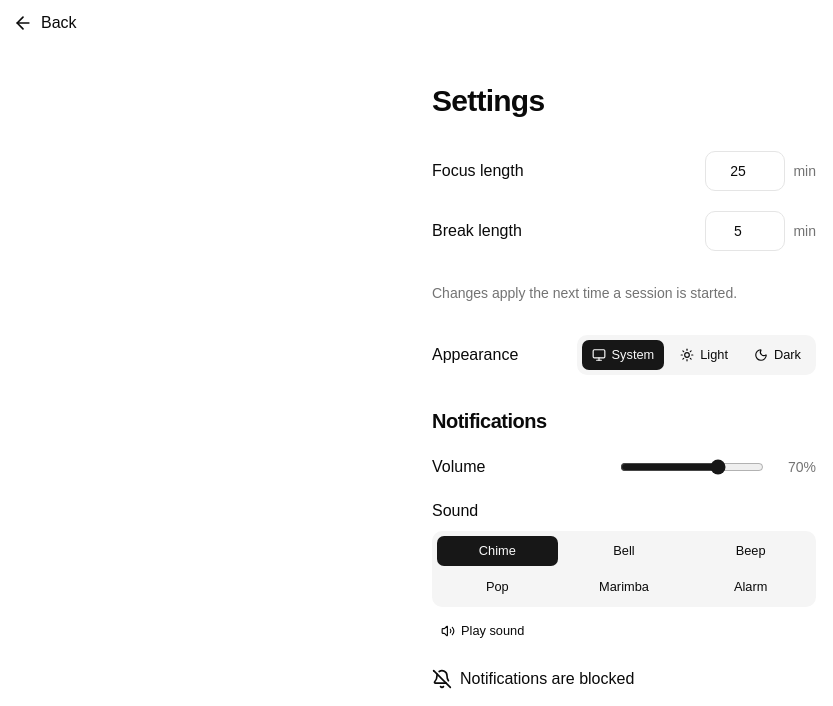
volume › saves a new volume
Set the slider labelled "Volume" to "40": coordinates (679, 467) 620,459 -> 764,475
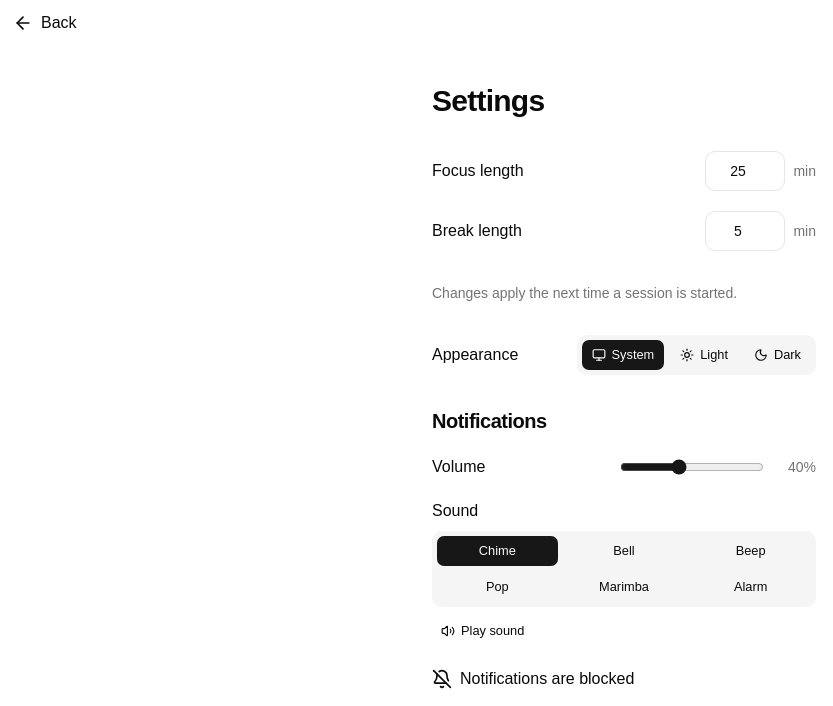
Check: the text "40%" is shown, box 788,459 -> 816,475
